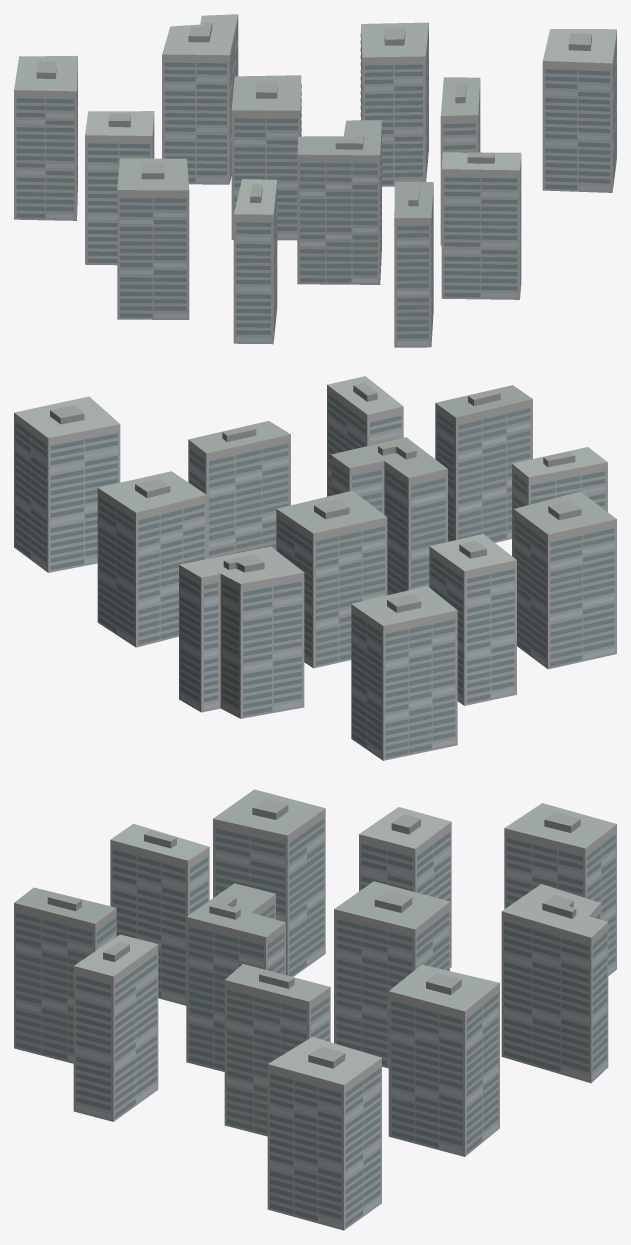
Rendered from apt-a10085903.glb.
3 renders of one model, top to bottom at view 1: azimuth 30°, elevation 25°; view 2: azimuth 150°, elevation 25°; view 3: azimuth 270°, elevation 25°, orthographic. The views are drawn at different scales.
Visible parts, largest first — view 1: apt-a10085903; view 2: apt-a10085903; view 3: apt-a10085903.
Boxes of the visible parts, x1,y1,x2,y2 form: apt-a10085903: (14,14,616,347); apt-a10085903: (14,376,616,760); apt-a10085903: (14,789,616,1230).
Bounding box in the file's own units: 200 × 48 × 172.
